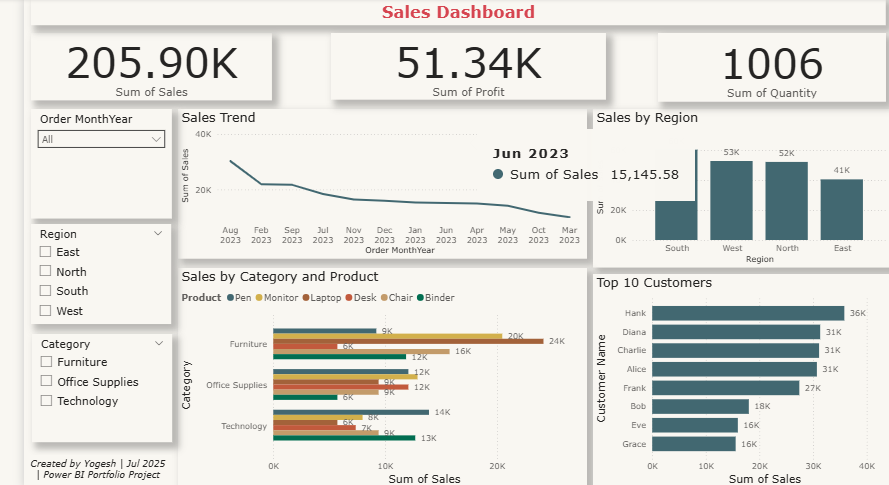

What the dashboard file says about the page in this screenshot:
{"tool":"powerbi","page":{"name":"Page 1","canvas":[1280,720],"ordinal":0},"visuals":[{"type":"card","fields":{"Values":["Sum(Sheet1.Sales)"]},"box":[10.1,52.1,354.4,99],"z":0},{"type":"lineChart","title":"Sales Trend","fields":{"Y":["Sum(Sheet1.Sales)"],"Category":["Sales_Data_Portfolio.Order MonthYear"]},"box":[226,162.9,601.4,220.1],"z":1000},{"type":"clusteredColumnChart","title":"Sales by Region","fields":{"Category":["Sales_Data_Portfolio.Region"],"Y":["Sum(Sales_Data_Portfolio.Sales)"]},"box":[836,162.9,436.7,233.5],"z":2000},{"type":"clusteredBarChart","title":"Sales by Category and Product","fields":{"Category":["Sales_Data_Portfolio.Category"],"Y":["Sum(Sales_Data_Portfolio.Sales)"],"Series":["Sales_Data_Portfolio.Product"]},"box":[226,396.4,601.4,324.2],"z":3000},{"type":"clusteredBarChart","title":"Top 10 Customers","fields":{"Category":["Sales_Data_Portfolio.Customer Name"],"Y":["Sum(Sales_Data_Portfolio.Sales)"]},"box":[836,404.8,435.1,315.8],"z":4000},{"type":"slicer","fields":{"Values":["Sales_Data_Portfolio.Order MonthYear"]},"box":[10.1,162.9,206.6,161.3],"z":5000},{"type":"slicer","fields":{"Values":["Sales_Data_Portfolio.Region"]},"box":[10.3,332.1,205.7,146.9],"z":6000},{"type":"slicer","fields":{"Values":["Sales_Data_Portfolio.Category"]},"box":[11.8,493.7,205.7,158.7],"z":7000},{"type":"textbox","box":[10.1,0,1256.5,40.3],"z":8000},{"type":"card","fields":{"Values":["Sum(Sales_Data_Portfolio.Profit)"]},"box":[451.1,51.4,404.1,98.4],"z":9000},{"type":"card","fields":{"Values":["Sum(Sales_Data_Portfolio.Quantity)"]},"box":[931.6,51.4,335,101],"z":10000},{"type":"textbox","box":[0,671.5,217.5,42.6],"z":11000}]}

Visuals, with their boxes on the page's 1280x720 design canvas (x1, y1, x2, y2). These are canvas units, not pixel positions in the 889x485 screenshot, which may show the page scaled, cropped or inside an application window:
card - Sum(Sheet1.Sales): locate(10, 52, 364, 151)
"Sales Trend" lineChart: locate(226, 163, 827, 383)
"Sales by Region" clusteredColumnChart: locate(836, 163, 1273, 396)
"Sales by Category and Product" clusteredBarChart: locate(226, 396, 827, 721)
"Top 10 Customers" clusteredBarChart: locate(836, 405, 1271, 721)
slicer - Sales_Data_Portfolio.Order MonthYear: locate(10, 163, 217, 324)
slicer - Sales_Data_Portfolio.Region: locate(10, 332, 216, 479)
slicer - Sales_Data_Portfolio.Category: locate(12, 494, 218, 652)
textbox: locate(10, 0, 1267, 40)
card - Sum(Sales_Data_Portfolio.Profit): locate(451, 51, 855, 150)
card - Sum(Sales_Data_Portfolio.Quantity): locate(932, 51, 1267, 152)
textbox: locate(0, 672, 218, 714)
